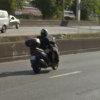Motorcycle: (20, 27, 62, 81)
